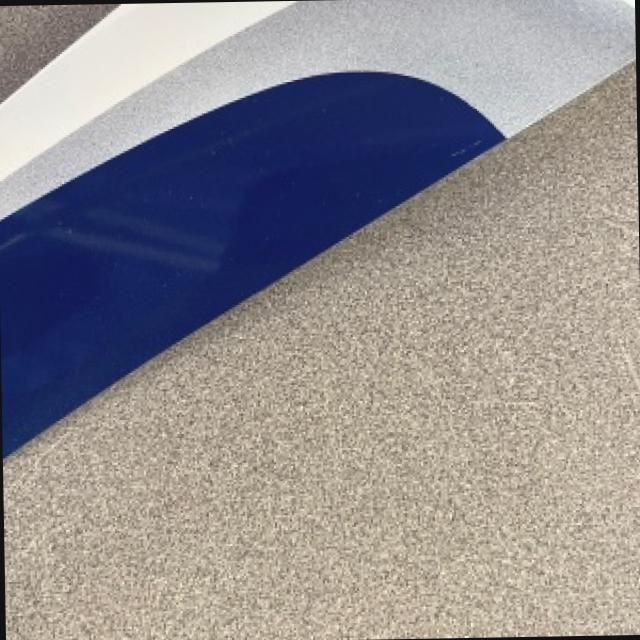healthy: (4, 63, 640, 640)
